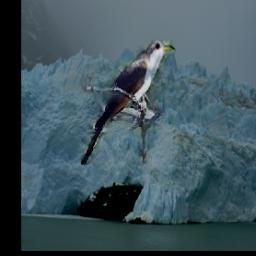Cuckoo: (80, 40, 175, 165)
